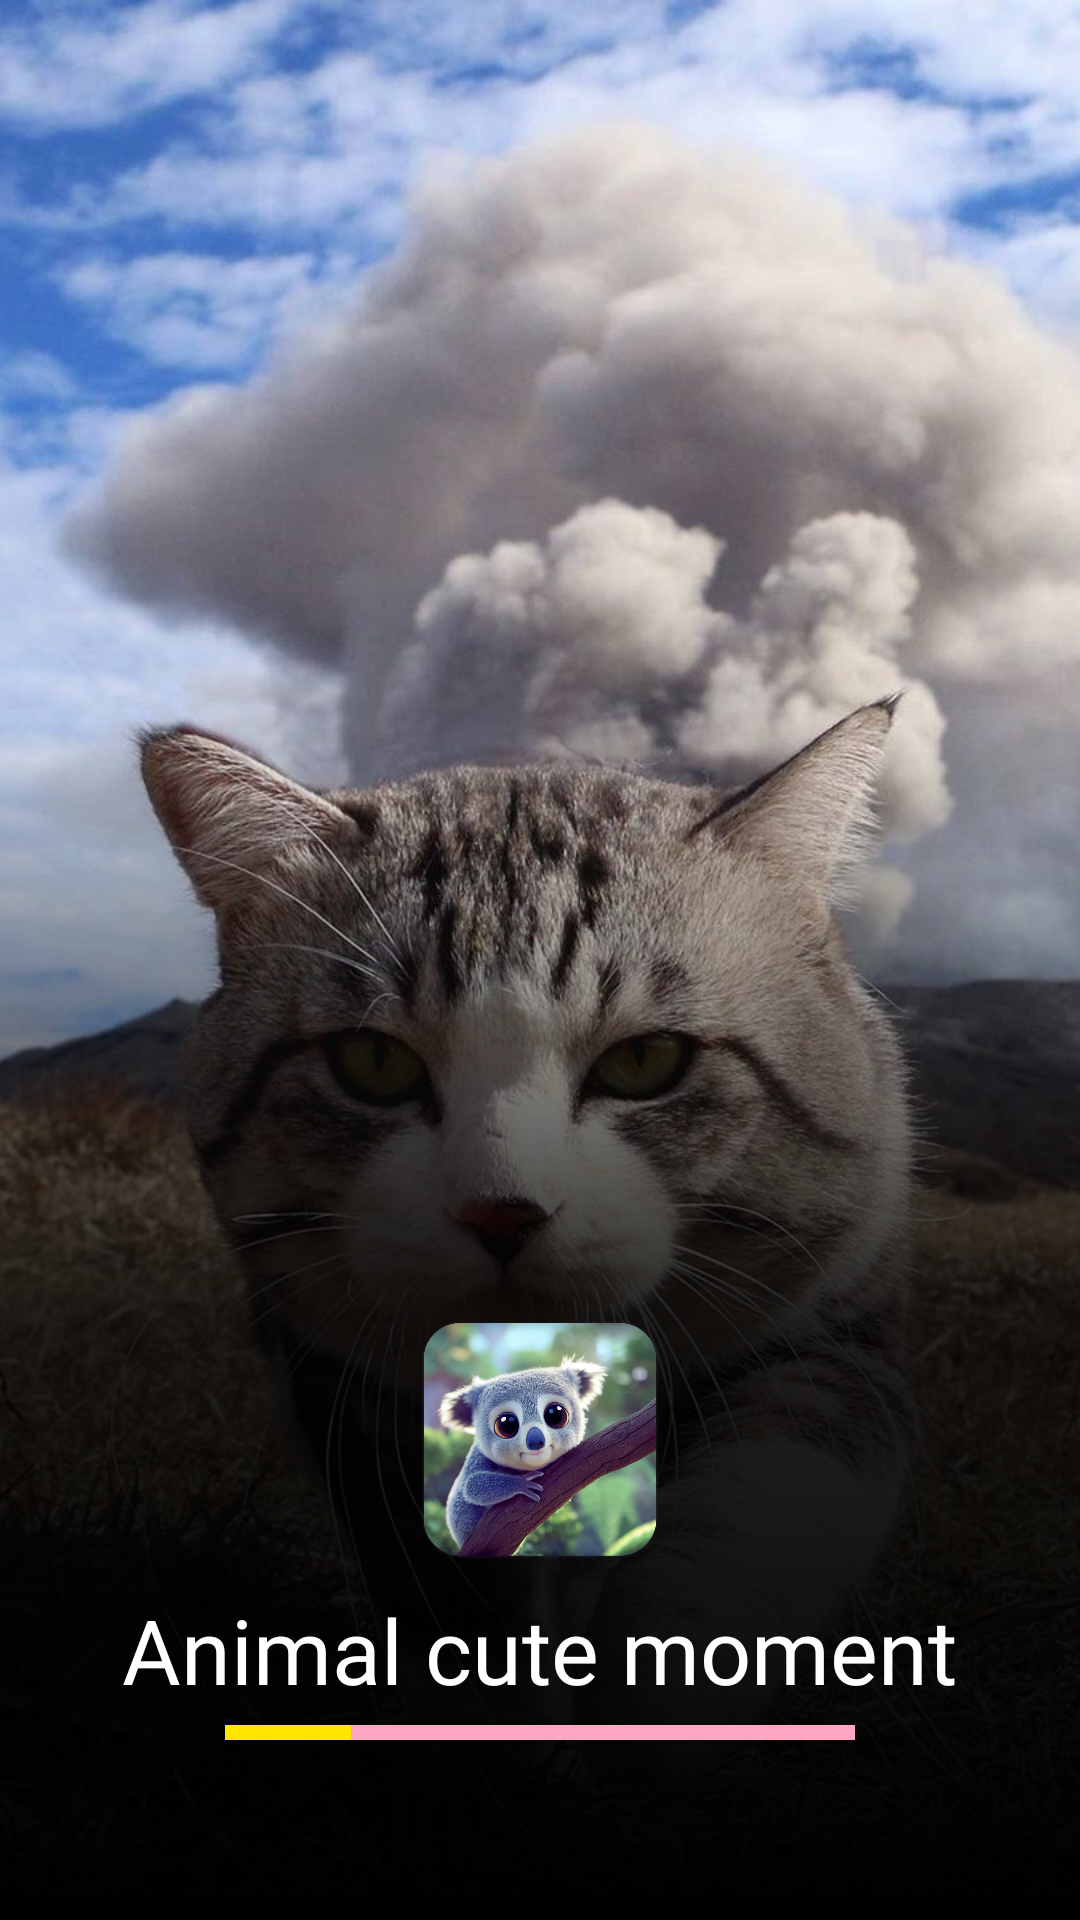

Screen size 1080px×1920px. Icon name, then its center in pixels as (x=x, y=y):
app: (x=541, y=1438)
